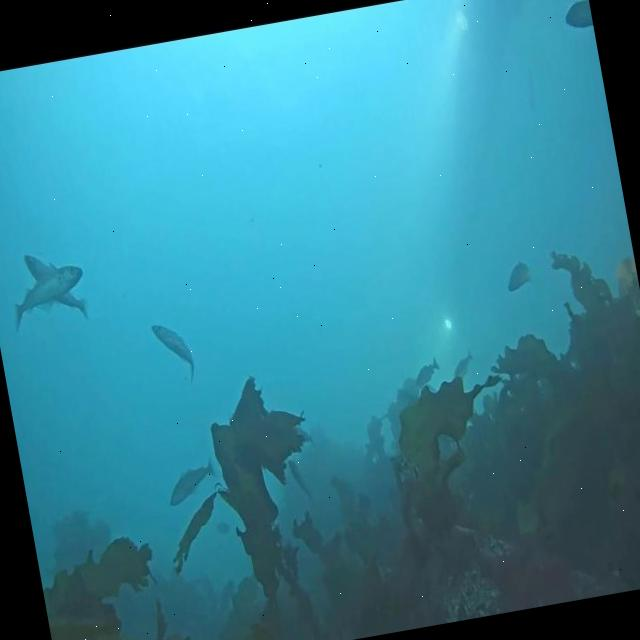fish: (5, 262, 90, 330), (22, 246, 90, 326), (151, 318, 198, 389), (161, 455, 221, 510), (285, 454, 311, 504), (504, 258, 534, 292), (448, 348, 476, 383), (412, 356, 442, 388), (562, 0, 593, 29)
